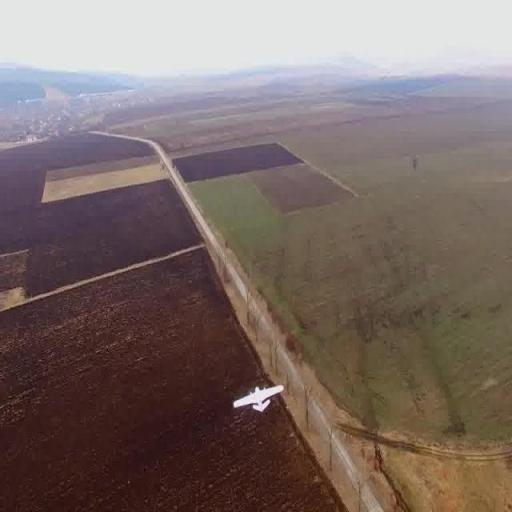uav: (224, 375, 290, 421)
